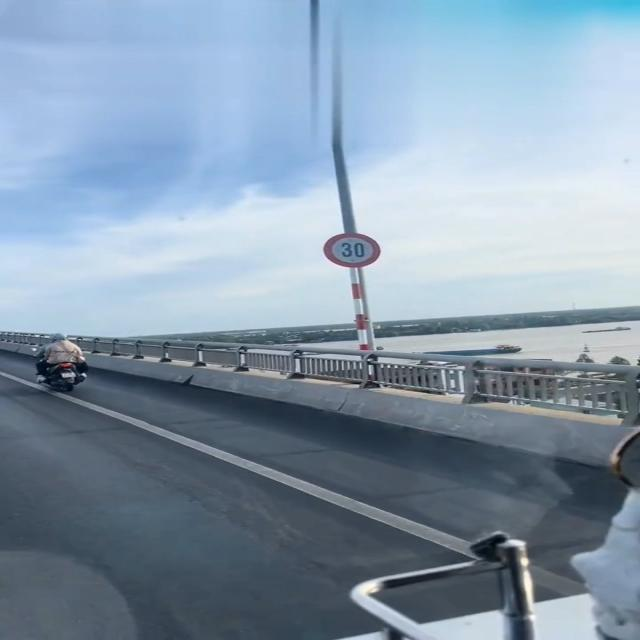127-toc-do-toi-da-30: (323, 233, 381, 267)
